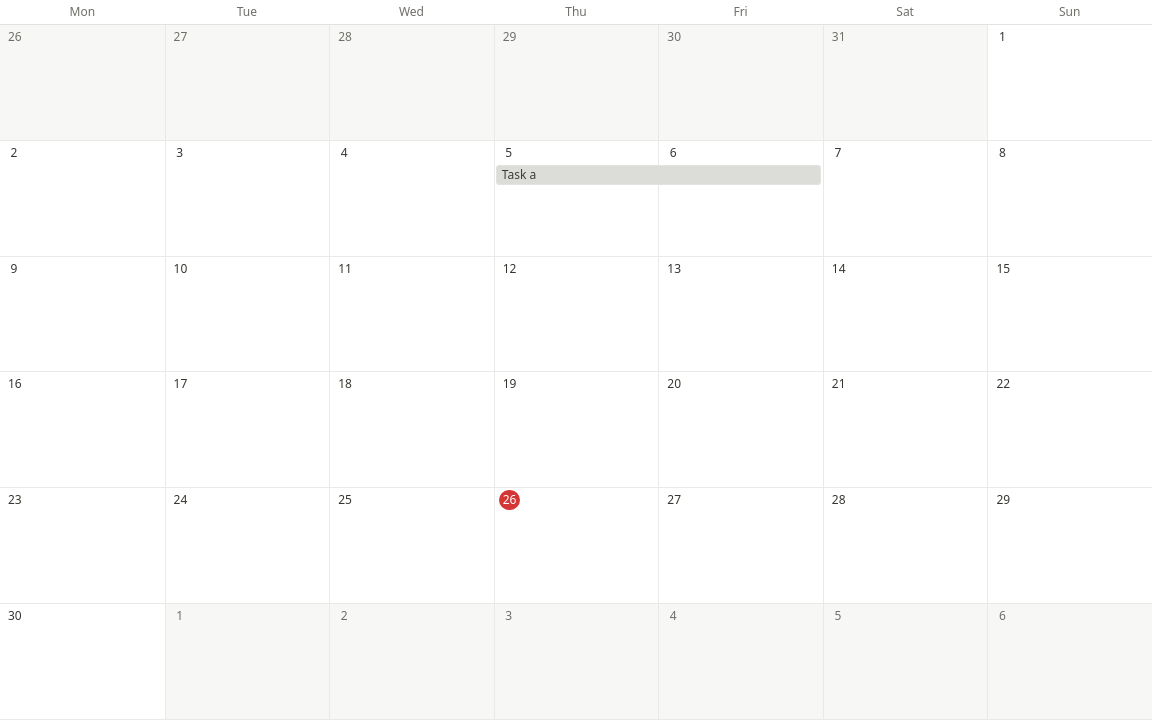
it: CalendarView — gestures › drag across two week rows opens quick-create for that range (CAL-5)
The width and height of the screenshot is (1152, 720).
Press the mouse on the element showing "12" at (576, 314), box 494,257 -> 658,372
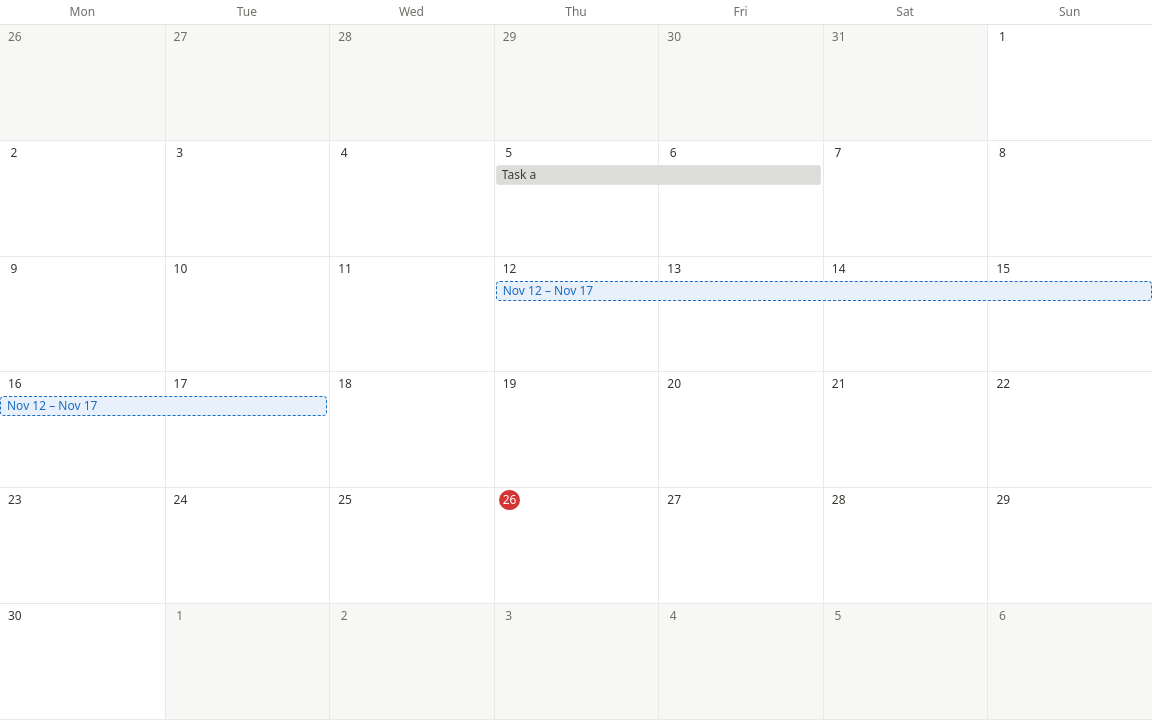
Check: the text "Nov 12 – Nov 17" is shown 2 times, box 496,281 -> 1151,301; 0,396 -> 327,416
